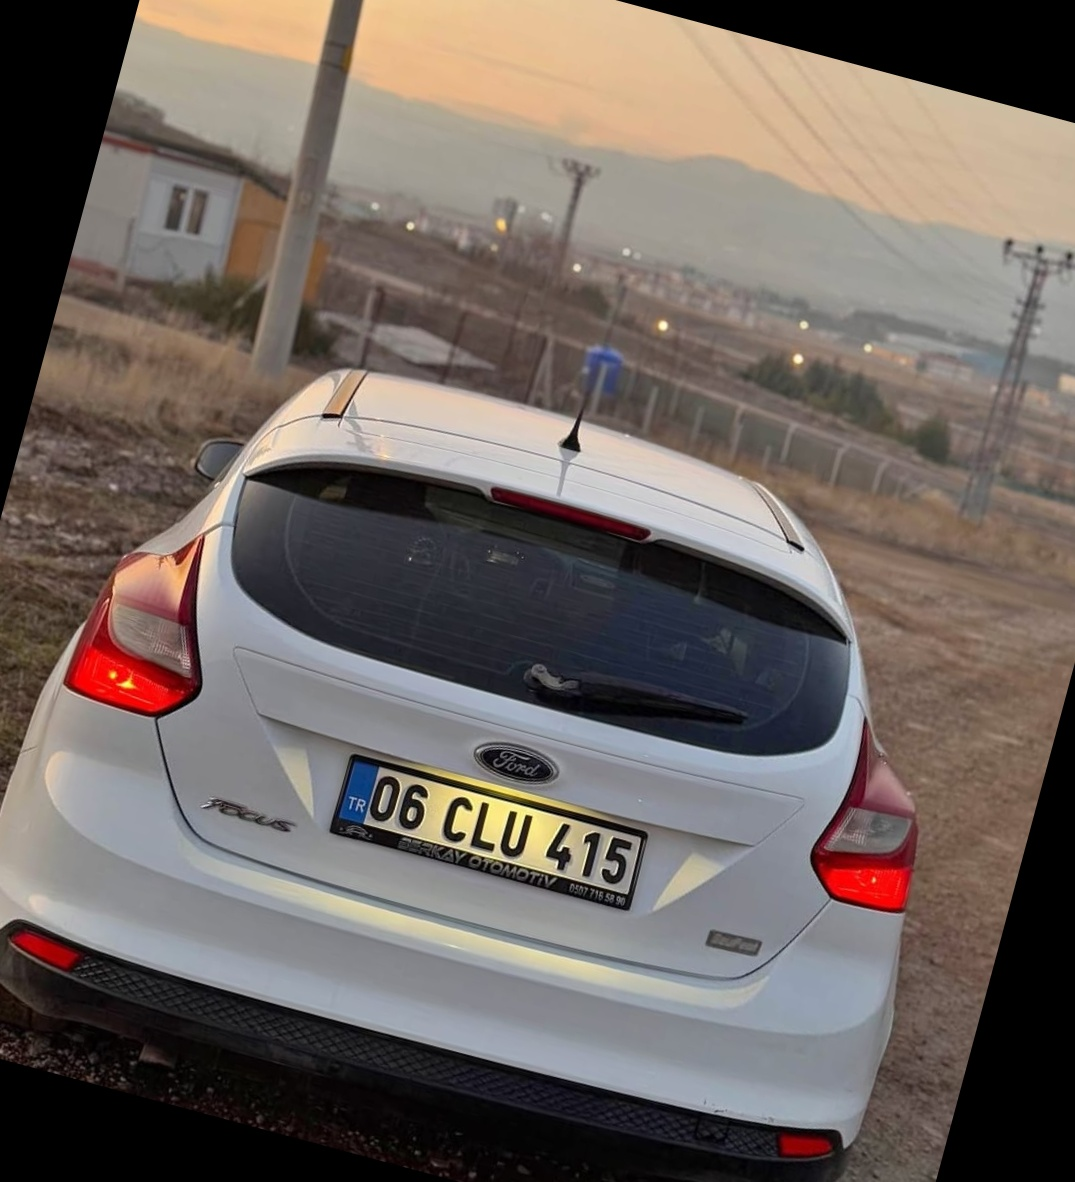plaka: (364, 755, 637, 897)
